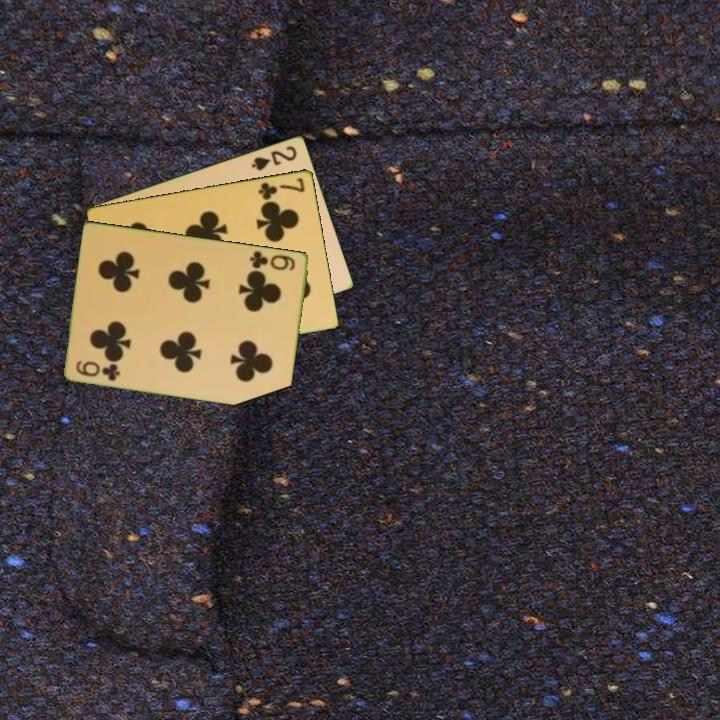2s: (248, 142, 300, 173)
6c: (72, 357, 123, 384), (246, 247, 298, 273)
7c: (255, 174, 308, 202)
